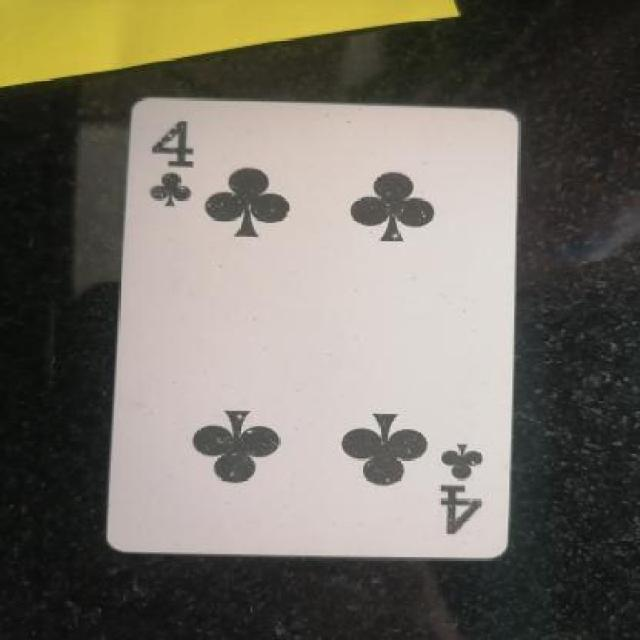4C: (410, 419, 515, 541), (138, 110, 218, 225)
